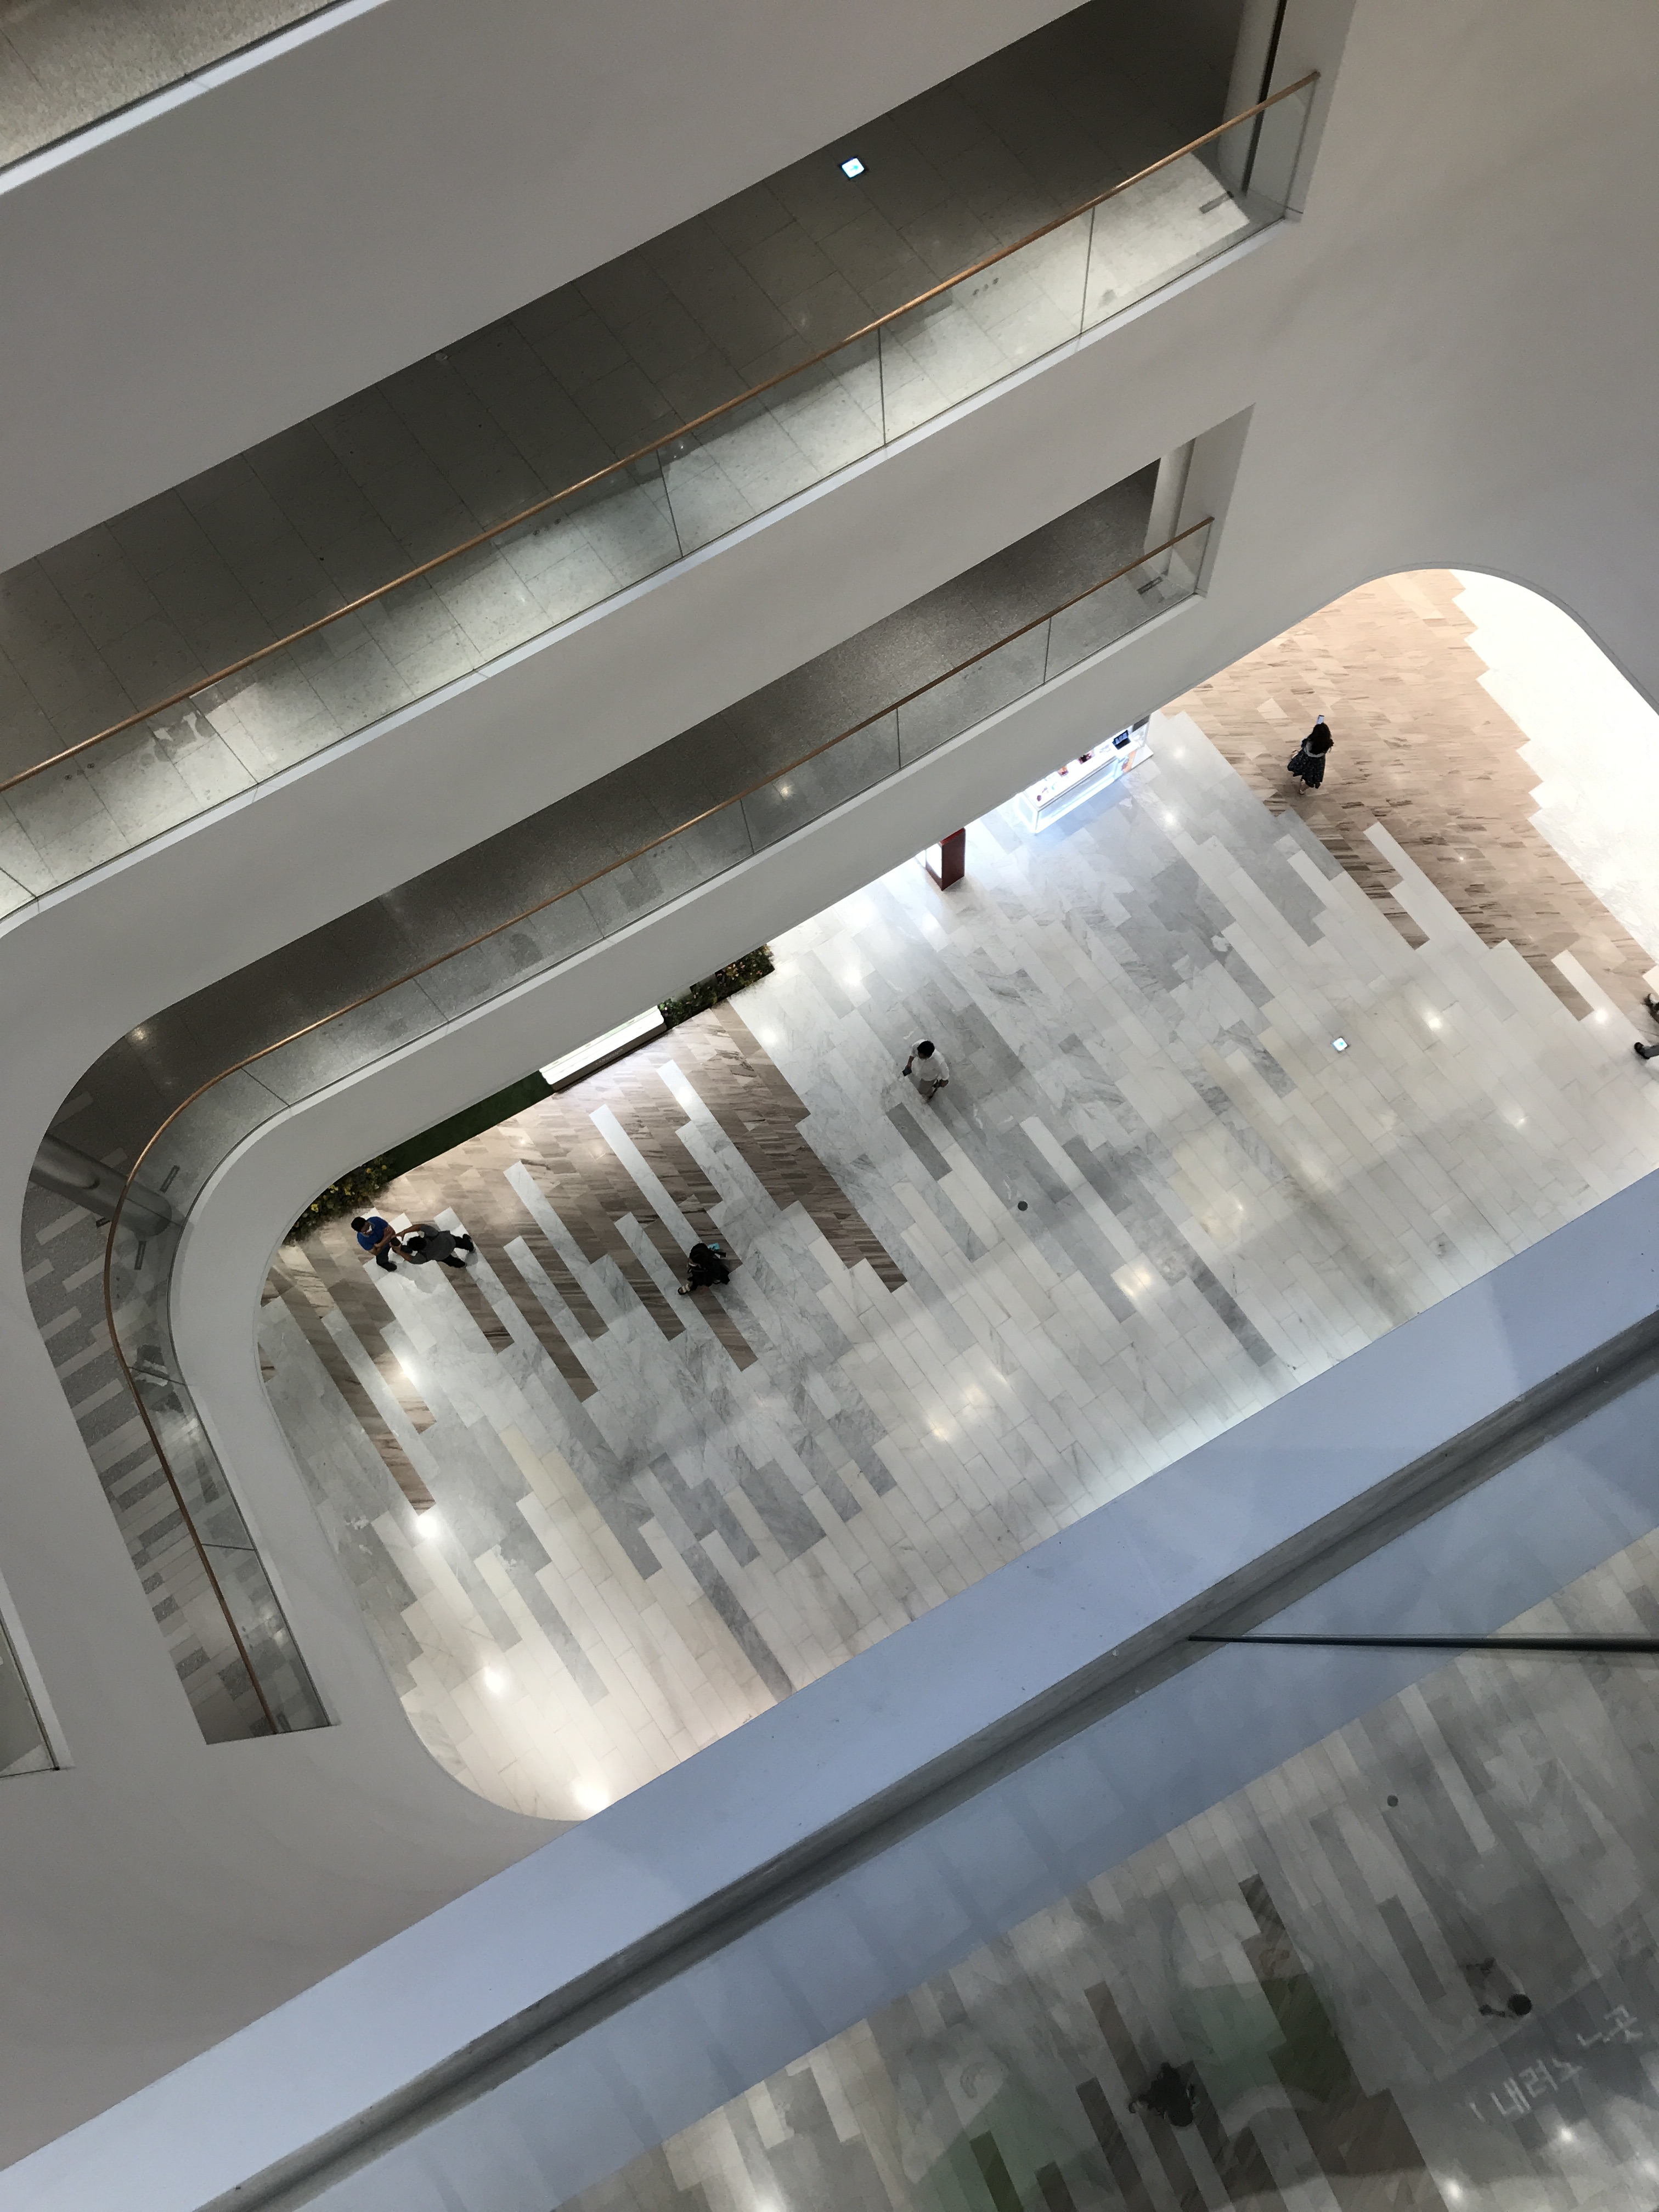person: (393, 1224, 478, 1271), (1288, 714, 1327, 798), (681, 1242, 735, 1300), (347, 1216, 404, 1269), (904, 1035, 946, 1108)
